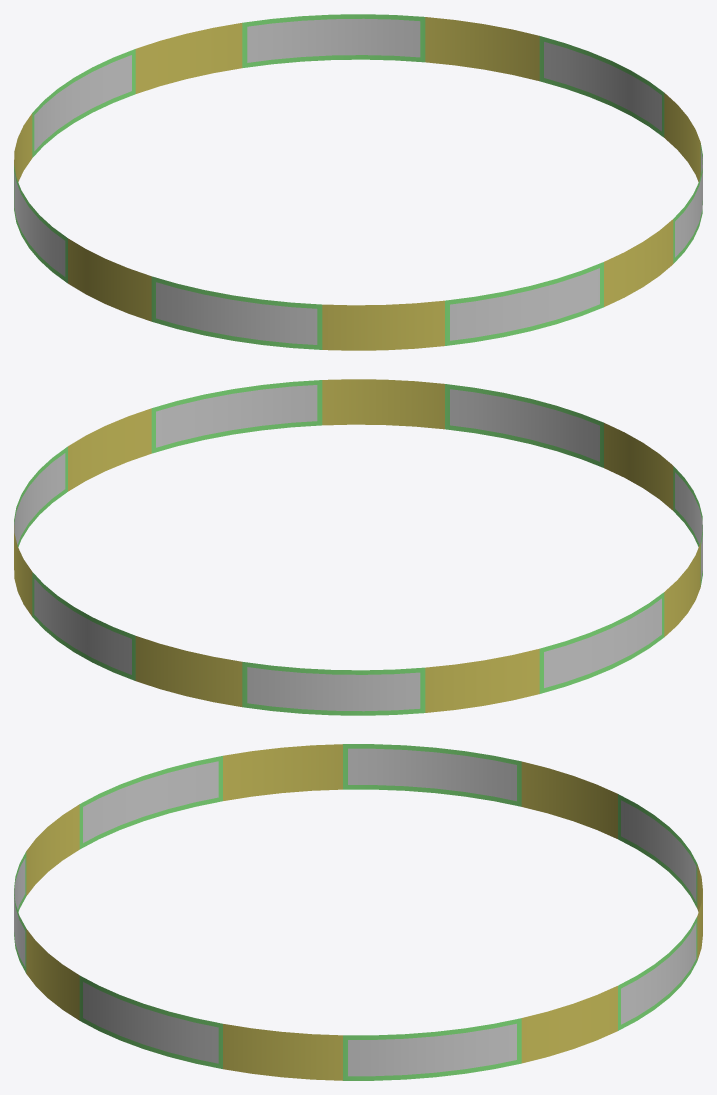
The model's file is WallsWoAWindows.fbx.
3 renders of one model, top to bottom at view 1: azimuth 30°, elevation 25°; view 2: azimuth 150°, elevation 25°; view 3: azimuth 270°, elevation 25°, orthographic.
Parts seen in each view (by area): view 1: ParadiseWalls; view 2: ParadiseWalls; view 3: ParadiseWalls.
Part boxes in pixels (x1=…): ParadiseWalls: x1=14, y1=14, x2=702, y2=350; ParadiseWalls: x1=14, y1=379, x2=702, y2=715; ParadiseWalls: x1=14, y1=744, x2=702, y2=1080.
Size of the model in its own units: 15872 by 1156 by 15871.
